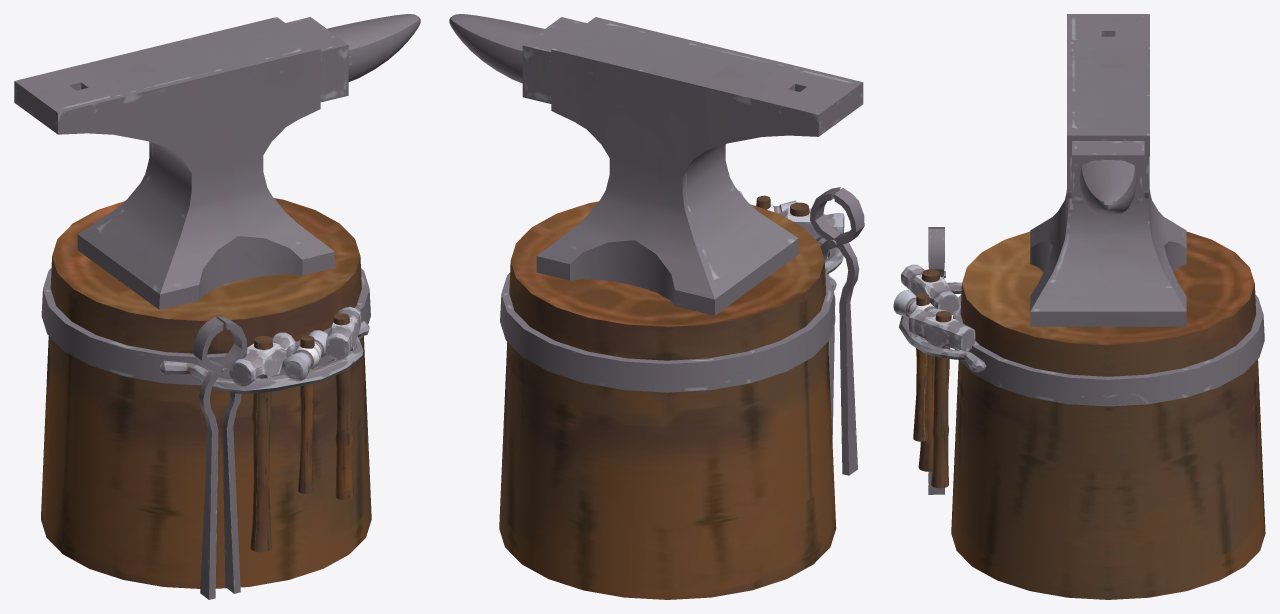
File: Anvil_Log.gltf
3 views of the same model, side by side, from view 1: azimuth 30°, elevation 25°; view 2: azimuth 150°, elevation 25°; view 3: azimuth 270°, elevation 25° (orthographic). The views are drawn at different scales.
Visible parts, largest first — view 1: Anvil_Log; view 2: Anvil_Log; view 3: Anvil_Log.
Boxes of the visible parts, x1=… form: Anvil_Log: x1=14, y1=14, x2=420, y2=599; Anvil_Log: x1=449, y1=14, x2=864, y2=599; Anvil_Log: x1=893, y1=14, x2=1265, y2=599.
Bounding box in the file's own units: 0.9292 × 1.07 × 0.8214.
Materials: 3 (3 with a texture image).
